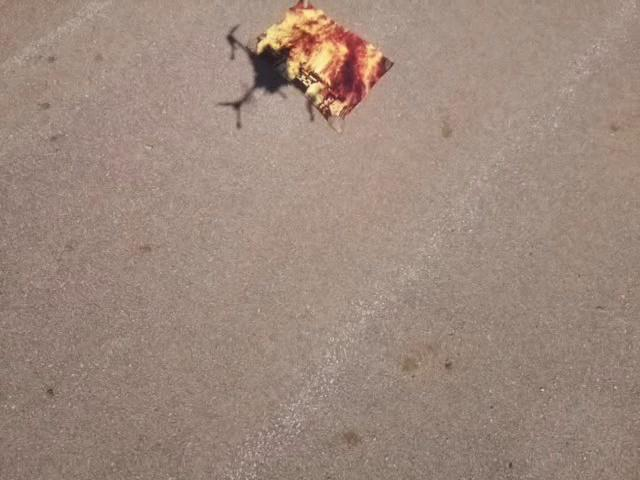fire-poster: (252, 0, 396, 135)
